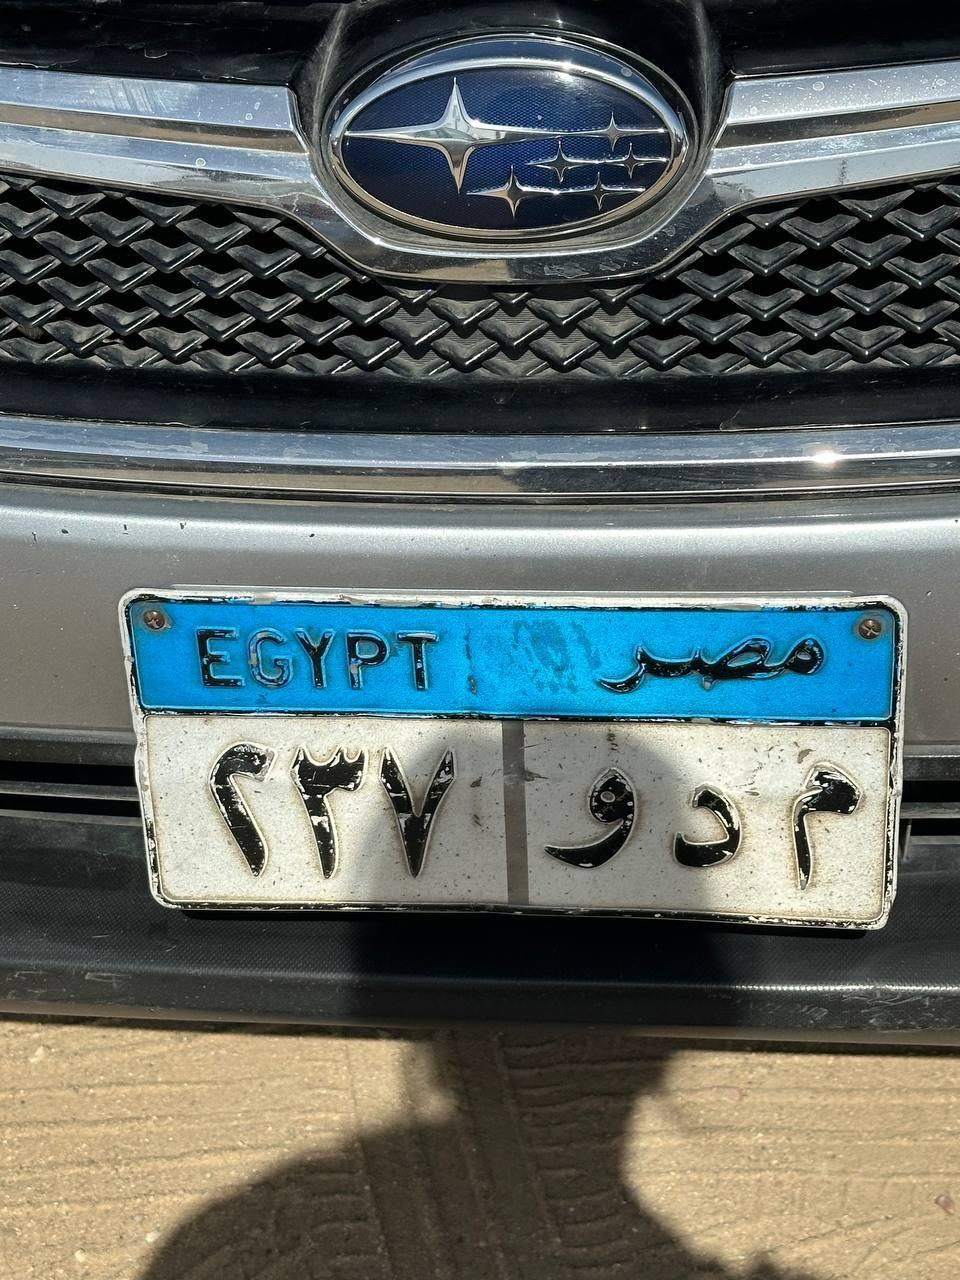2: (207, 735, 282, 880)
3: (288, 739, 374, 889)
7: (380, 747, 466, 881)
License Plate: (117, 583, 909, 935)
Meem: (787, 758, 862, 893)
Wow: (535, 761, 639, 865)
daal: (672, 776, 744, 871)
